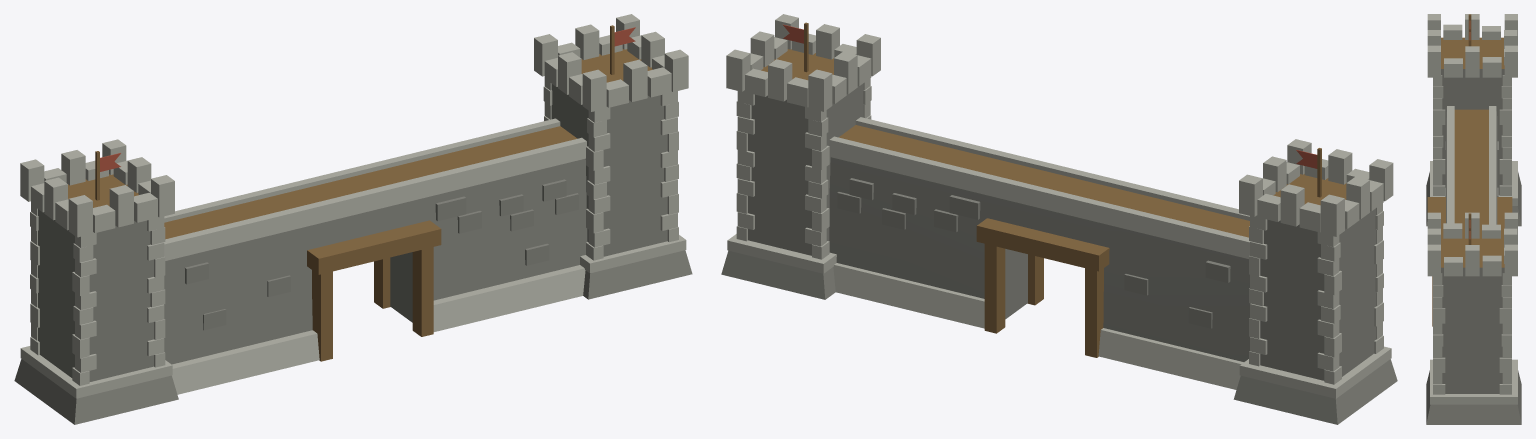
File: WallTowers_Door_SecondAge.glb
3 views of the same model, side by side, from view 1: azimuth 30°, elevation 25°; view 2: azimuth 150°, elevation 25°; view 3: azimuth 270°, elevation 25° (orthographic). The views are drawn at different scales.
Parts seen in each view (by area): view 1: WallTowers_Door_SecondAge; view 2: WallTowers_Door_SecondAge; view 3: WallTowers_Door_SecondAge.
Part boxes in pixels (x1,y1,x2,y2): WallTowers_Door_SecondAge: (14,14,692,424); WallTowers_Door_SecondAge: (721,14,1397,424); WallTowers_Door_SecondAge: (1426,14,1521,424).
Bounding box in the file's own units: 1.98 × 0.7371 × 0.3333.
